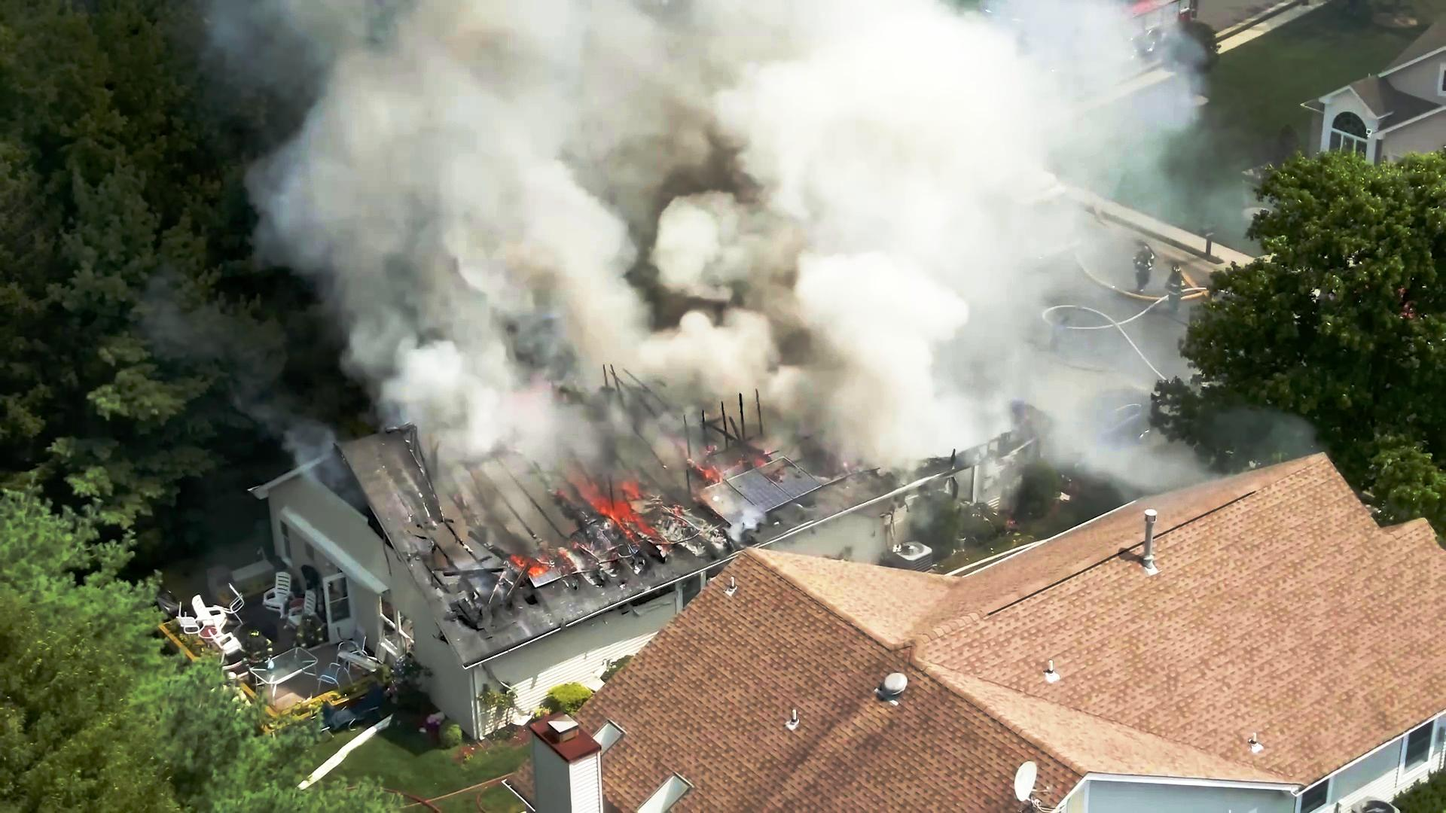smoke: (558, 0, 961, 364), (290, 0, 630, 366)
